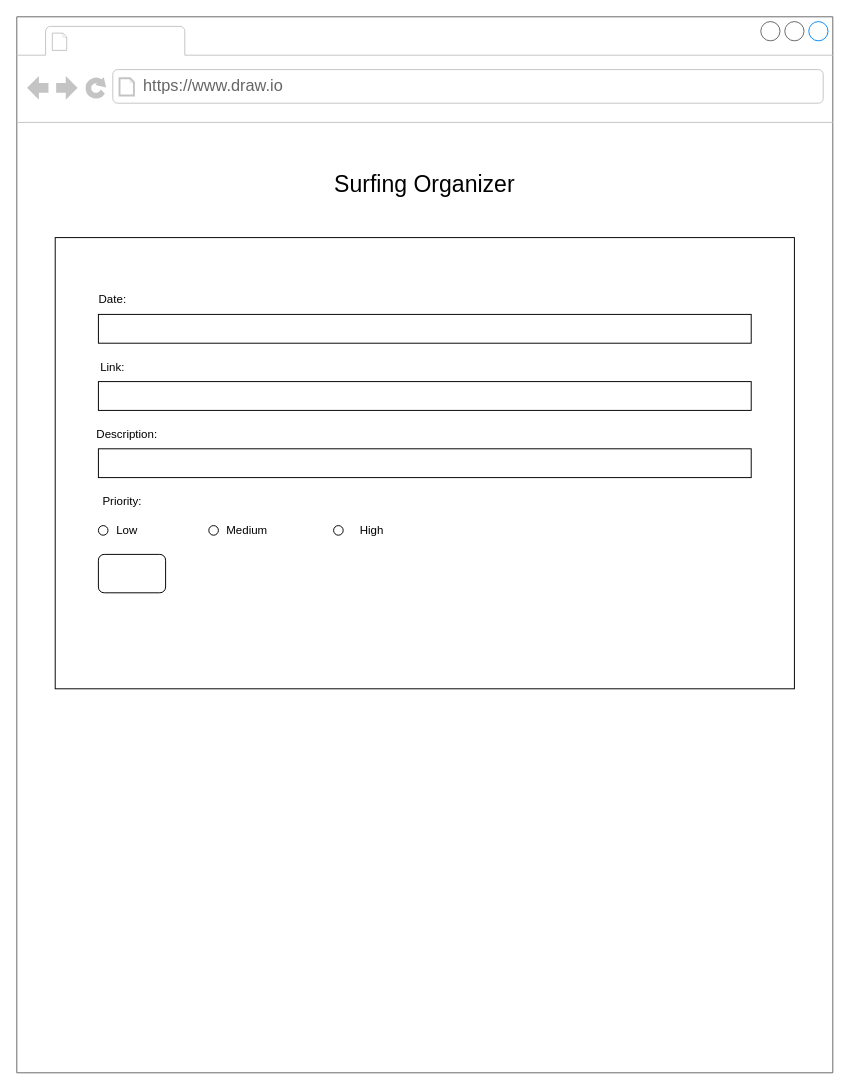
Image size: 850x1090. Some labels were removed from this diagram. The centre of each missing label's shape, as x and y in pixels:
Page 1: point 126,40
Submit: point 131,573
